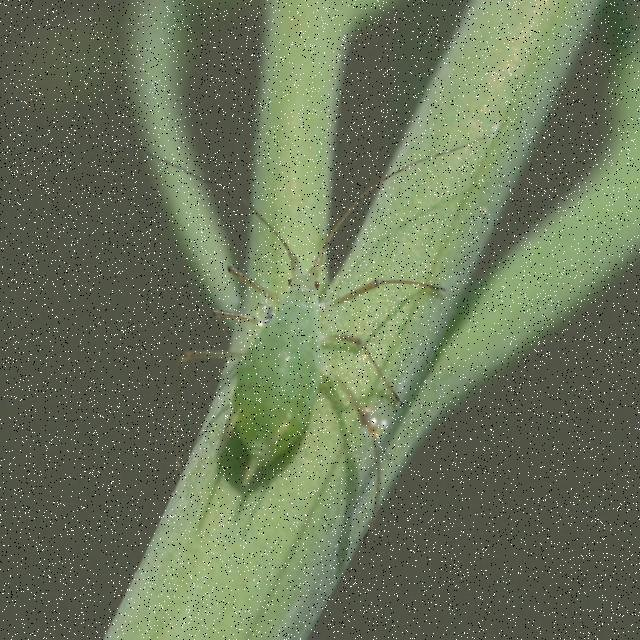Aphids: (134, 133, 450, 544)
